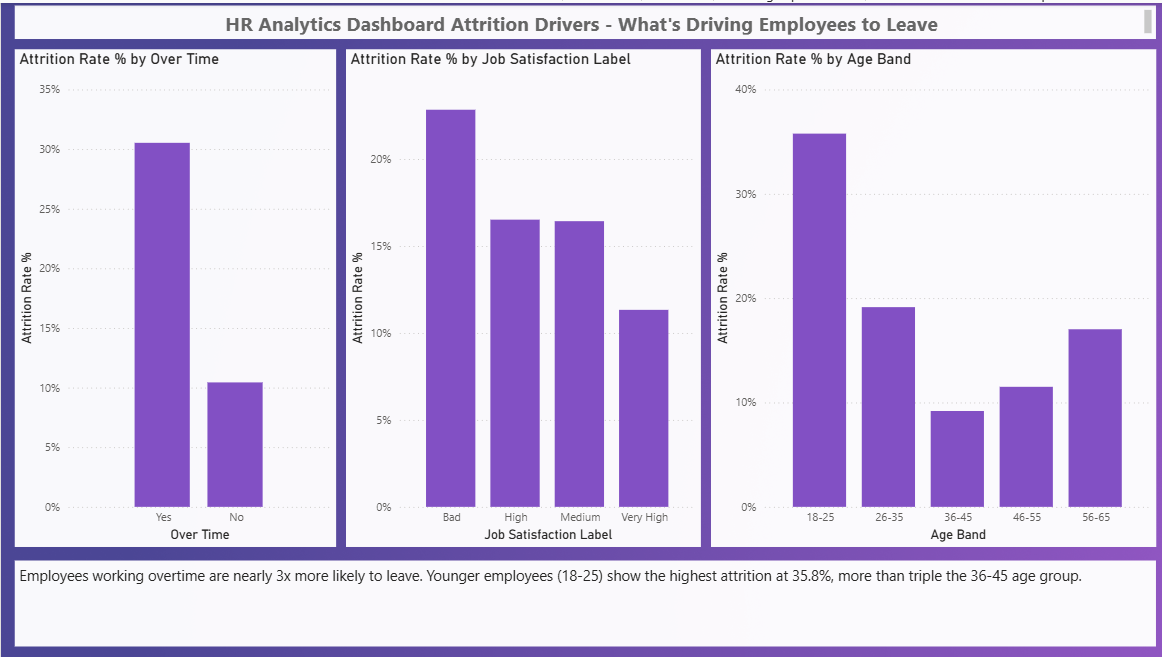

The dashboard page shown, as its layout file describes it:
{"tool":"powerbi","page":{"name":"Attrition Drivers","canvas":[1280,720],"ordinal":1},"visuals":[{"type":"clusteredColumnChart","fields":{"Category":["public hr_employees.over_time"],"Y":["_Measures.Attrition Rate %"]},"box":[15.1,50.8,352.7,546.1],"z":0},{"type":"clusteredColumnChart","fields":{"Category":["public hr_employees.job_satisfaction_label"],"Y":["_Measures.Attrition Rate %"]},"box":[378.7,50.8,389.7,546.1],"z":1000},{"type":"clusteredColumnChart","fields":{"Category":["public hr_employees.age_band"],"Y":["_Measures.Attrition Rate %"]},"box":[779.4,50.8,488.5,546.1],"z":2000},{"type":"textbox","box":[15.1,612,1252.8,94.7],"z":3000},{"type":"textbox","box":[15.1,2.7,1252.8,37],"z":3001}]}

Visuals, with their boxes in screenshot pixels (x1, y1, x2, y2), scaled from the page's 1280x720 canvas onto the 1162x657 screenshot:
clusteredColumnChart - public hr_employees.over_time x _Measures.Attrition Rate %: 14, 46, 334, 545
clusteredColumnChart - public hr_employees.job_satisfaction_label x _Measures.Attrition Rate %: 344, 46, 698, 545
clusteredColumnChart - public hr_employees.age_band x _Measures.Attrition Rate %: 708, 46, 1151, 545
textbox: 14, 558, 1151, 645
textbox: 14, 2, 1151, 36
